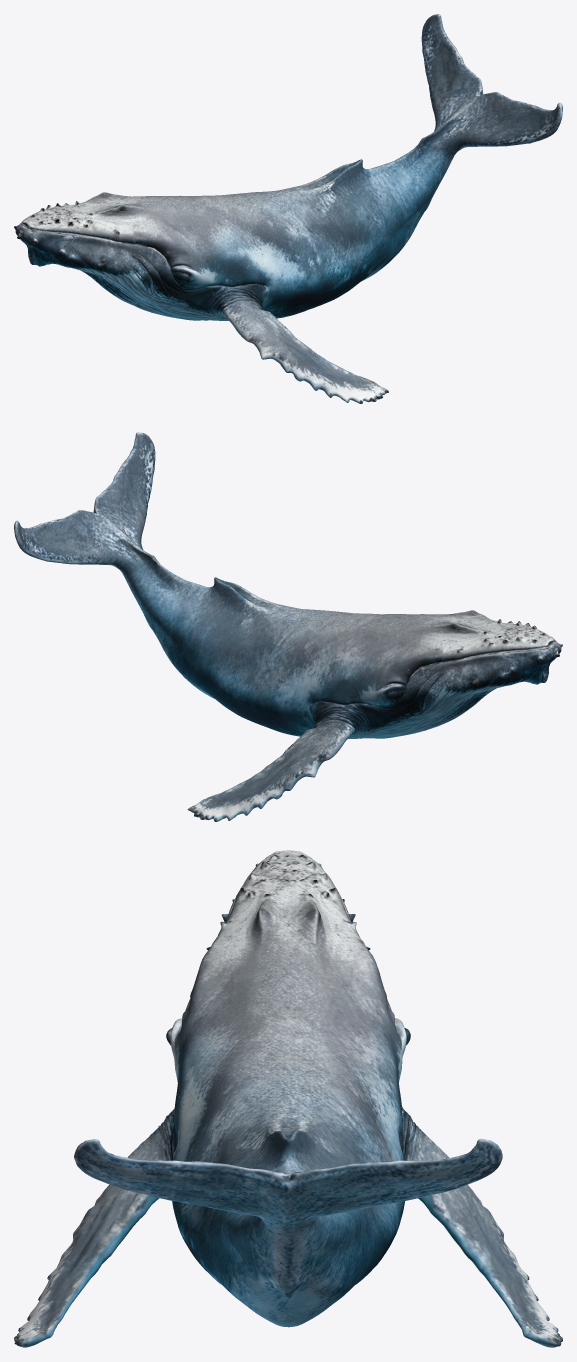
3 views of the same model, one above another, from view 1: azimuth 30°, elevation 25°; view 2: azimuth 150°, elevation 25°; view 3: azimuth 270°, elevation 25° (orthographic). The views are drawn at different scales.
Parts seen in each view (by area): view 1: tripo_node_9911e321-4b07-4593-adb8-0ca9f9008b0a; view 2: tripo_node_9911e321-4b07-4593-adb8-0ca9f9008b0a; view 3: tripo_node_9911e321-4b07-4593-adb8-0ca9f9008b0a.
Boxes of the visible parts, x1,y1,x2,y2 form: tripo_node_9911e321-4b07-4593-adb8-0ca9f9008b0a: (14,14,562,403); tripo_node_9911e321-4b07-4593-adb8-0ca9f9008b0a: (14,432,562,821); tripo_node_9911e321-4b07-4593-adb8-0ca9f9008b0a: (14,850,562,1347).
Bounding box in the file's own units: 0.9799 × 0.4461 × 0.6035.
1 material, 1 textured.
